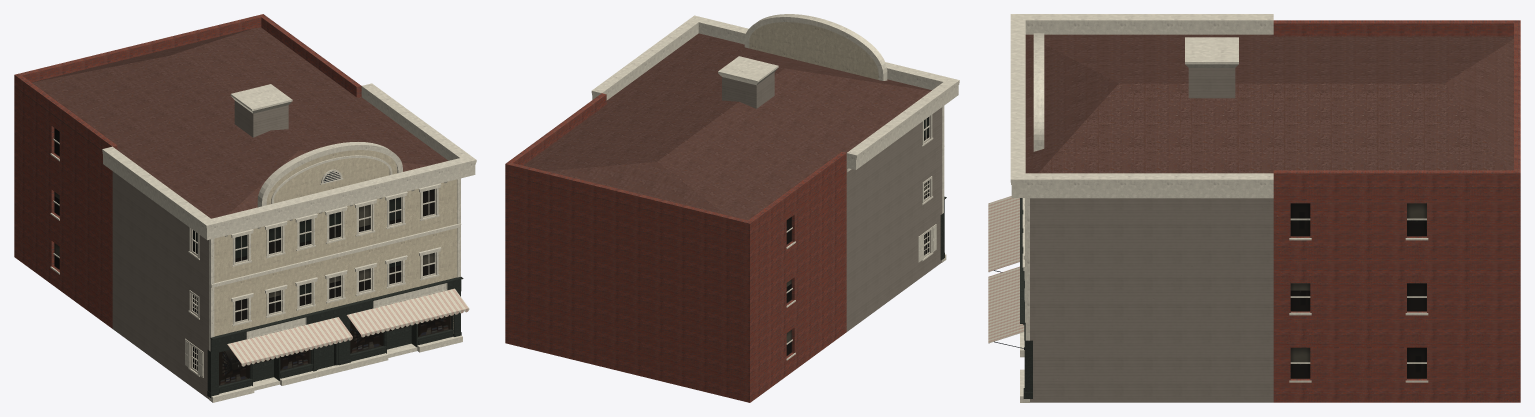
The model's file is odd-fellows-hall.glb.
3 renders of one model, left to right at view 1: azimuth 30°, elevation 25°; view 2: azimuth 150°, elevation 25°; view 3: azimuth 270°, elevation 25°, orthographic. The views are drawn at different scales.
Parts seen in each view (by area): view 1: OddFellowsHall; view 2: OddFellowsHall; view 3: OddFellowsHall.
Boxes of the visible parts, box(x1,y1,x2,y2) form: OddFellowsHall: box(14, 14, 476, 402); OddFellowsHall: box(505, 14, 959, 402); OddFellowsHall: box(988, 14, 1520, 402).
Bounding box in the file's own units: 16.83 × 13.1 × 22.87.
11 materials, 9 textured.
